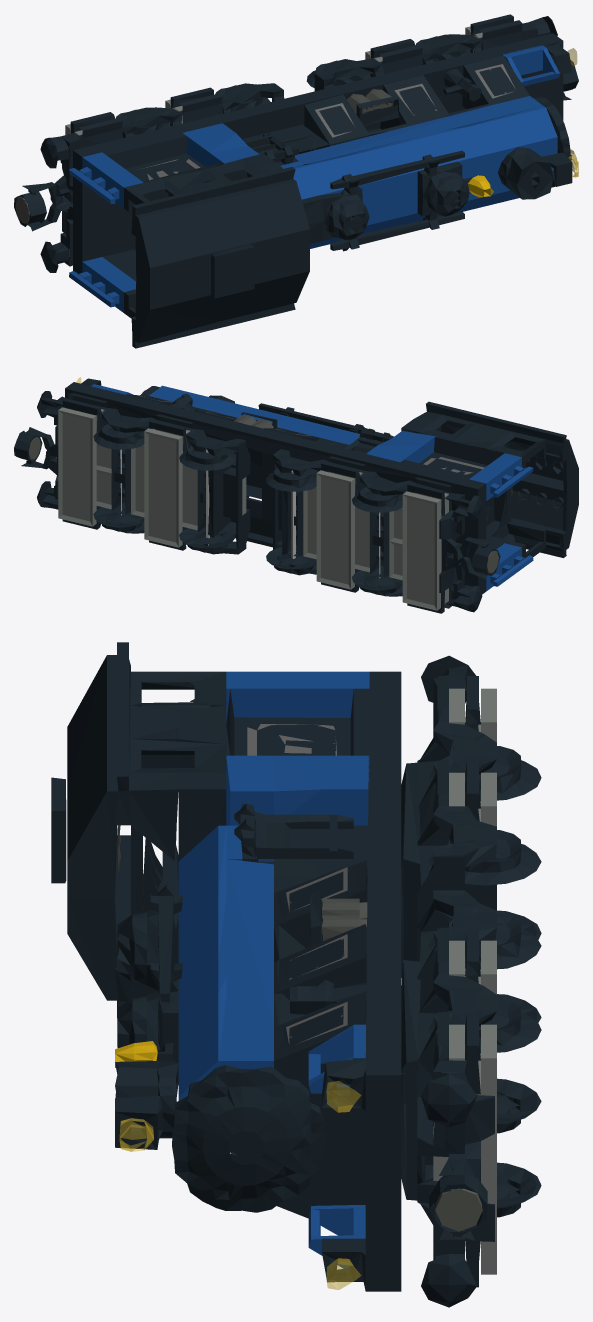
3 renders of one model, top to bottom at view 1: azimuth 30°, elevation 25°; view 2: azimuth 150°, elevation 25°; view 3: azimuth 270°, elevation 25°, orthographic. The views are drawn at different scales.
Bounding box in the file's own units: 219 × 54.02 × 98.6.
